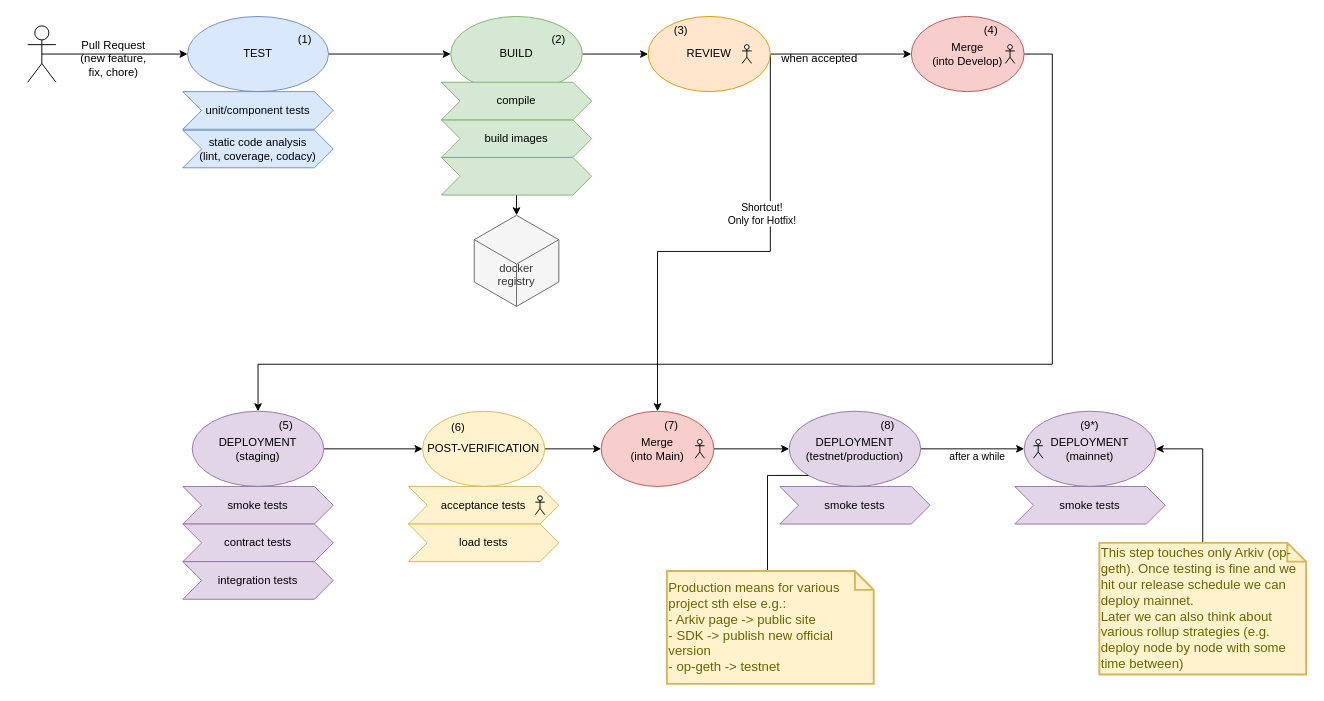
Image size: 1324x701. Some labels were removed from this diagram. The centre of each missing label's shape, as x and y in pixels:
"Developer" goes at pixel 41 53.
"push to registry" goes at pixel 516 176.
